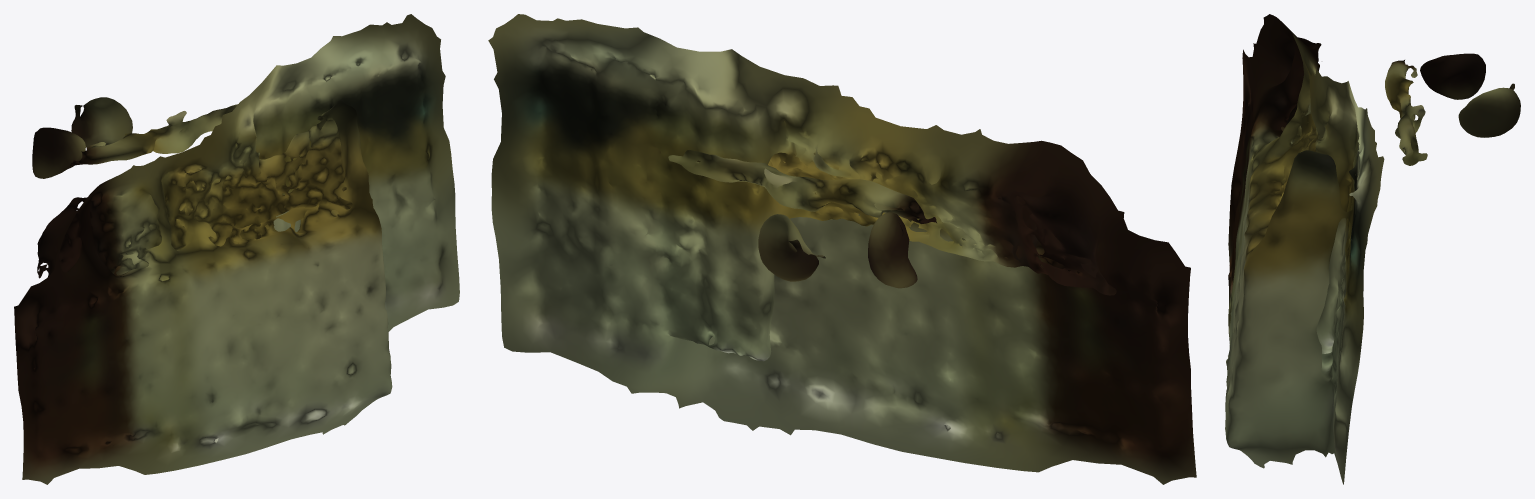
3 renders of one model, left to right at view 1: azimuth 30°, elevation 25°; view 2: azimuth 150°, elevation 25°; view 3: azimuth 270°, elevation 25°, orthographic. The views are drawn at different scales.
Size of the model in its own units: 2.34 by 1.56 by 1.1.
